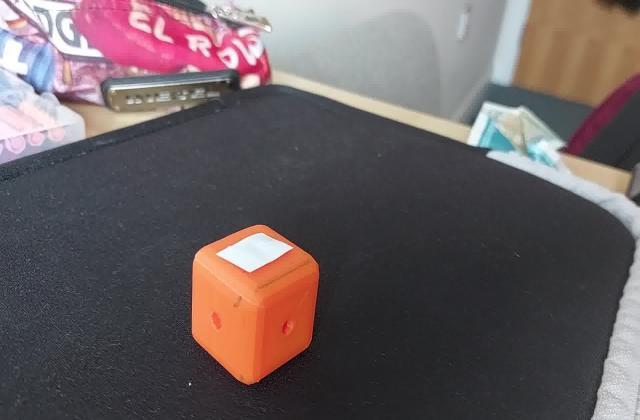cube: (190, 218, 324, 384)
white: (217, 240, 280, 278)
